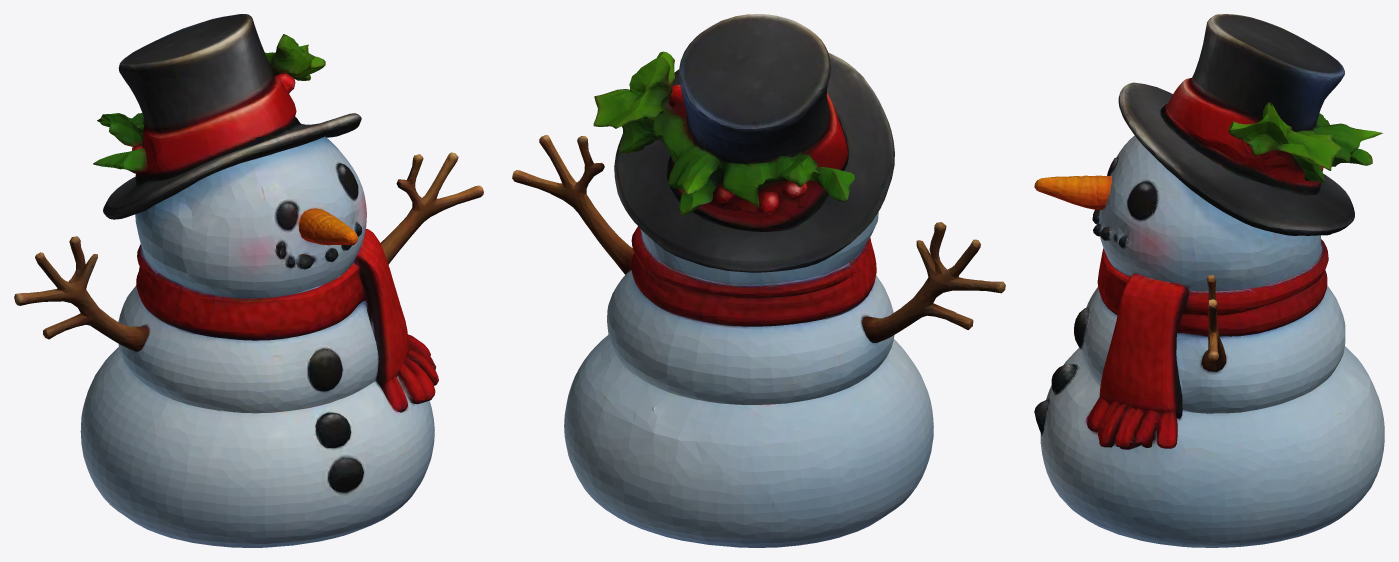
File: flurry.glb
3 views of the same model, side by side, from view 1: azimuth 30°, elevation 25°; view 2: azimuth 150°, elevation 25°; view 3: azimuth 270°, elevation 25° (orthographic). The views are drawn at different scales.
Parts seen in each view (by area): view 1: geometry_0; view 2: geometry_0; view 3: geometry_0.
Boxes of the visible parts, box(x1,y1,x2,y2) form: geometry_0: box(14, 14, 483, 547); geometry_0: box(512, 14, 1005, 547); geometry_0: box(1034, 14, 1384, 547).
Bounding box in the file's own units: 1.06 × 1 × 0.6943.
Materials: 1 (1 with a texture image).
